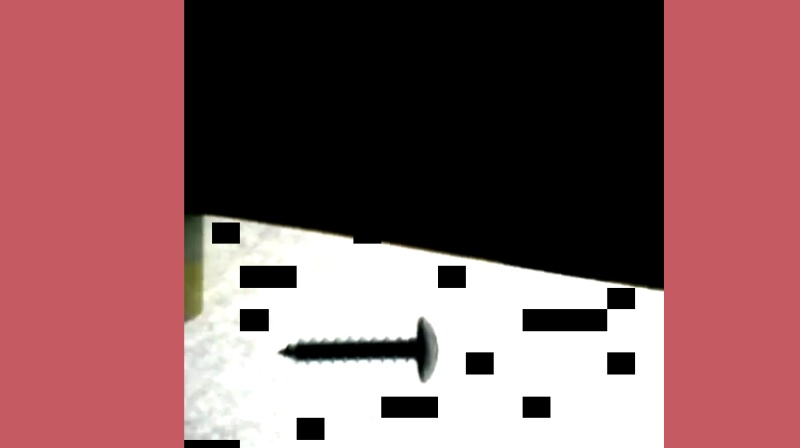S003: (276, 309, 443, 385)
